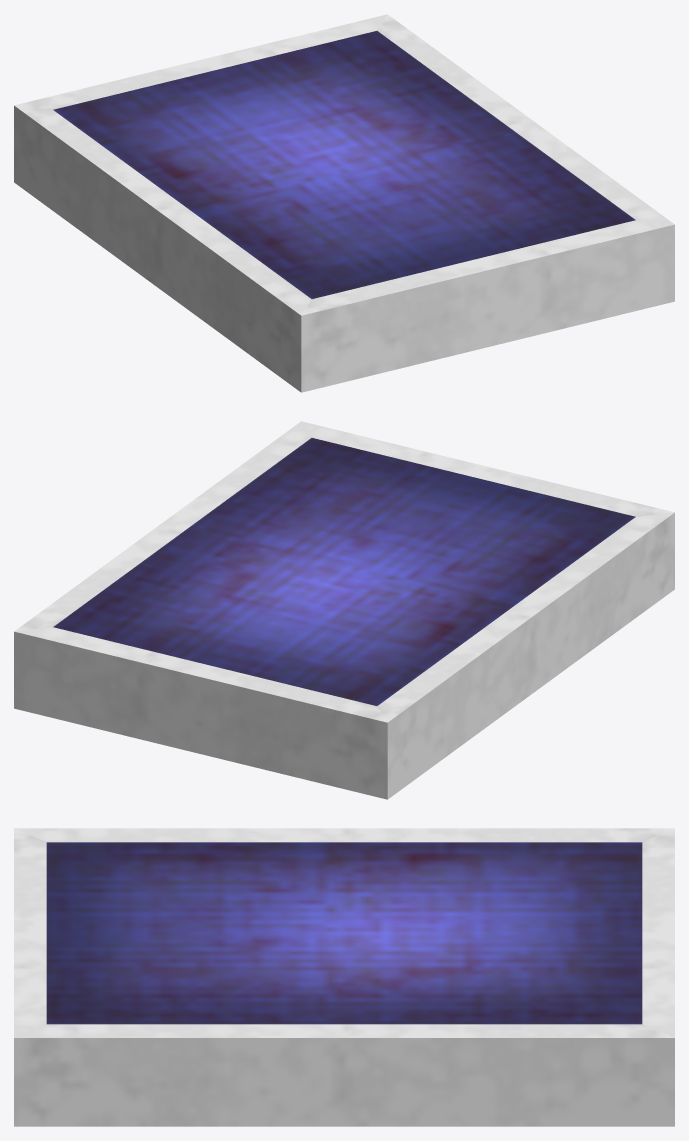
Rendered from giftgoods101a.fbx.
The picture shows the model from 3 angles, top to bottom: view 1: azimuth 30°, elevation 25°; view 2: azimuth 150°, elevation 25°; view 3: azimuth 270°, elevation 25°; orthographic projection. The views are drawn at different scales.
Visible parts, largest first — view 1: giftgoods101a; view 2: giftgoods101a; view 3: giftgoods101a.
Part boxes in pixels (<box>): giftgoods101a: <box>14,14,674,392</box>; giftgoods101a: <box>14,421,674,799</box>; giftgoods101a: <box>14,828,674,1126</box>.
Size of the model in its own units: 0.1575 by 0.031 by 0.2098.
